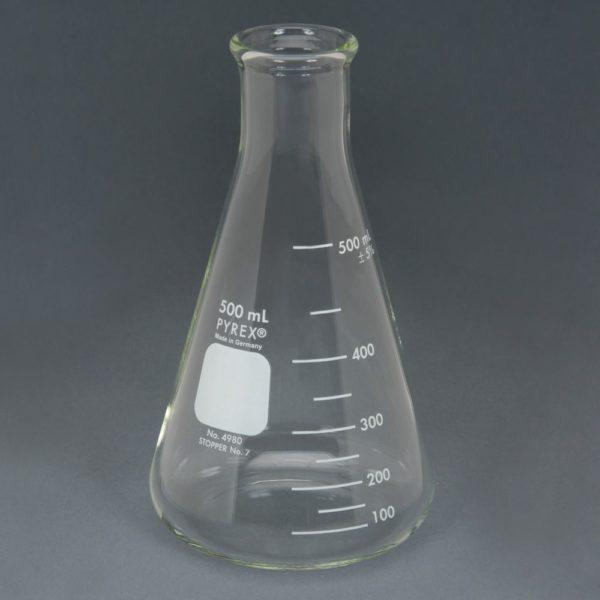Titrarion: (145, 11, 430, 571)
